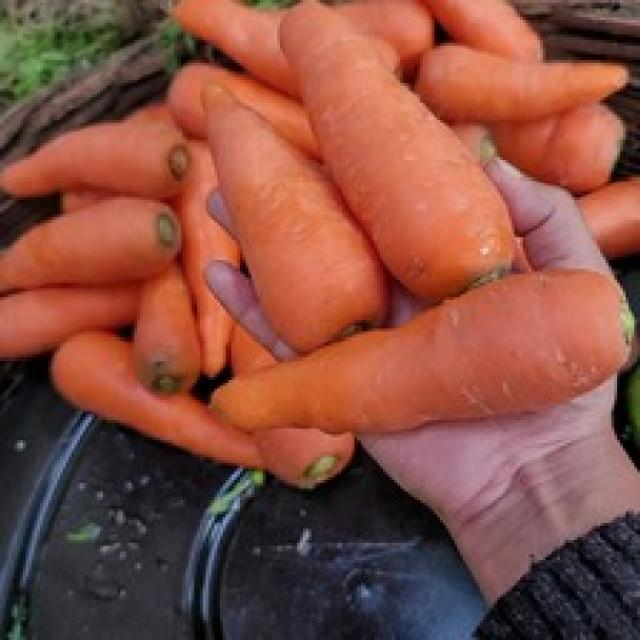Fresh_Carrot: (193, 247, 623, 468), (251, 10, 541, 313), (182, 46, 512, 310), (206, 68, 372, 336)
